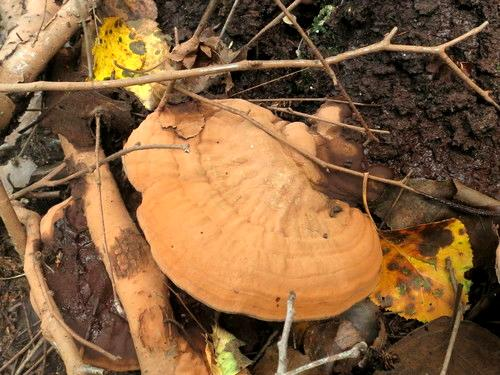Ganoderma - Fruit Body: (130, 94, 388, 321)
